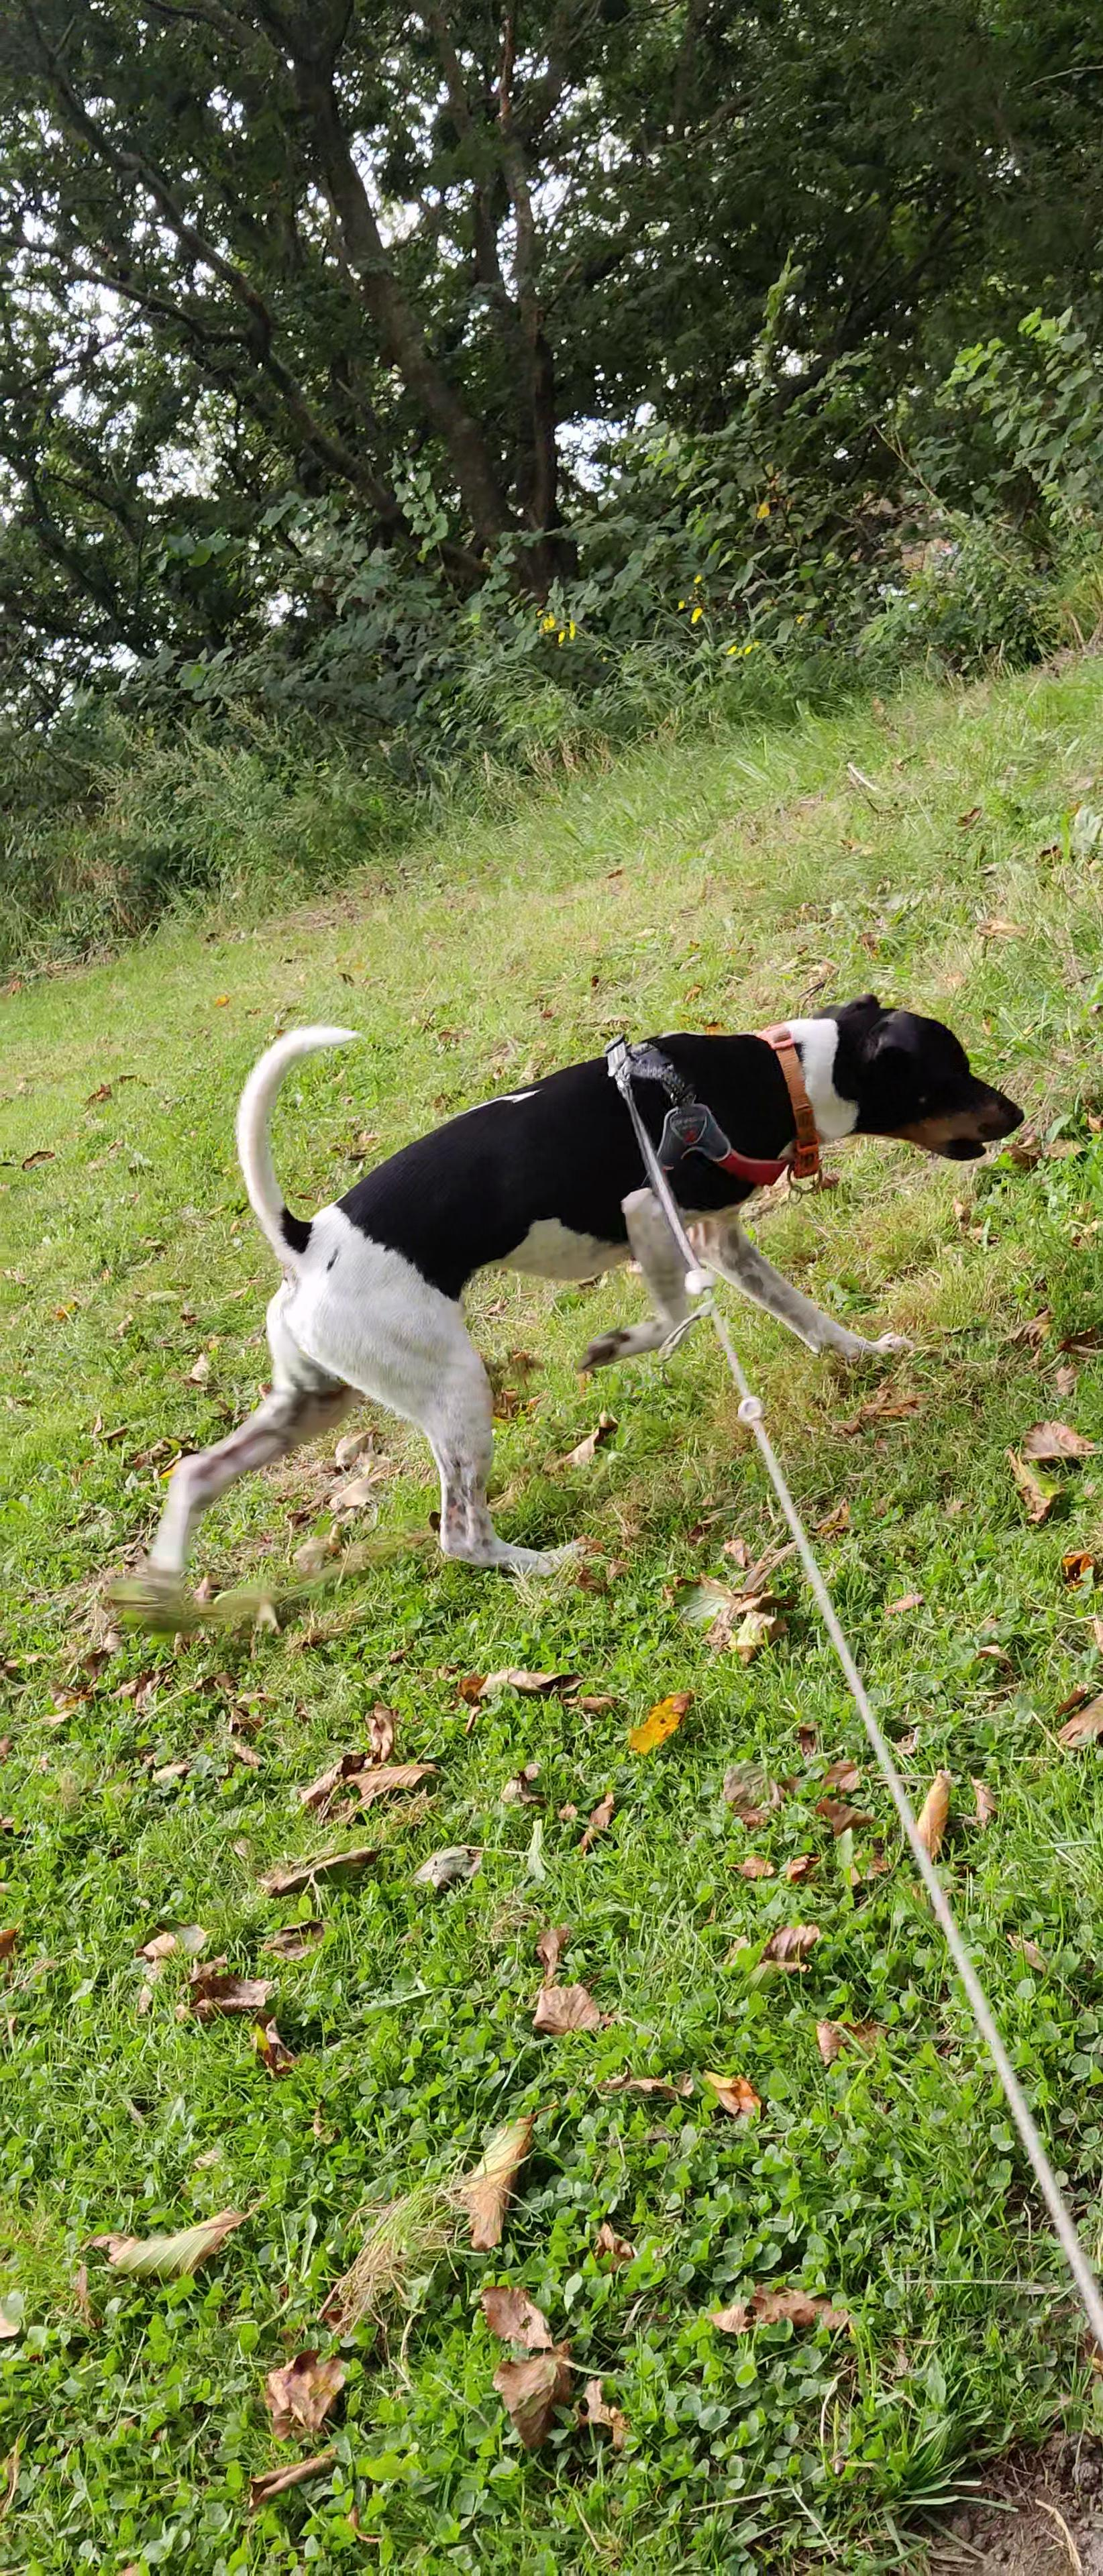Dog: (140, 987, 1026, 1595)
